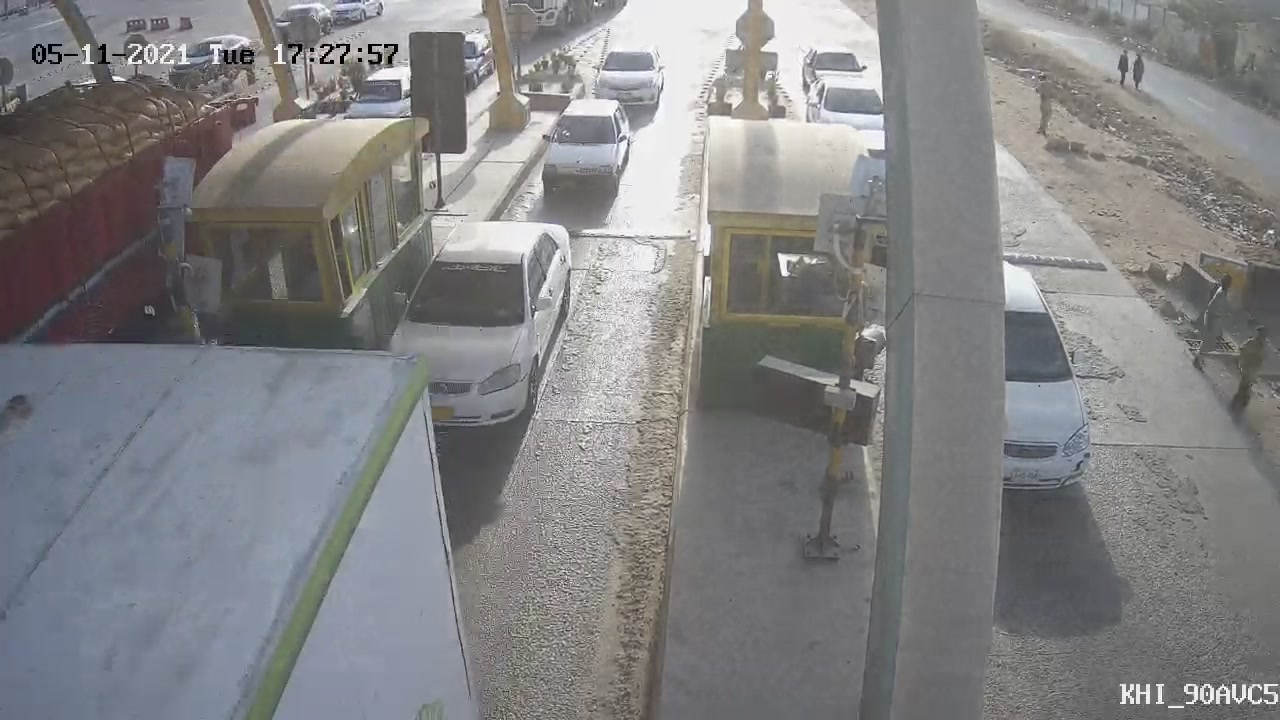F1: (369, 204, 587, 457), (523, 89, 646, 213)
